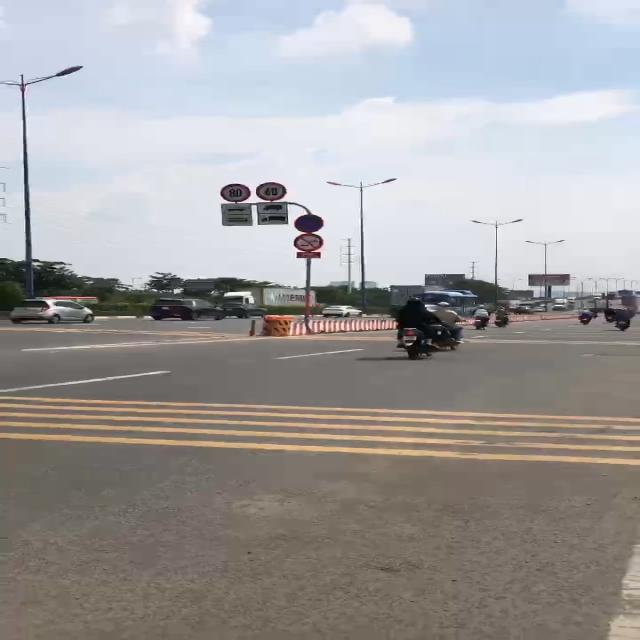Bien bao cam dung xe va do xe: (293, 213, 326, 233)
Bien bao toc do toi da cho phep: (218, 182, 254, 204), (254, 182, 290, 202)
